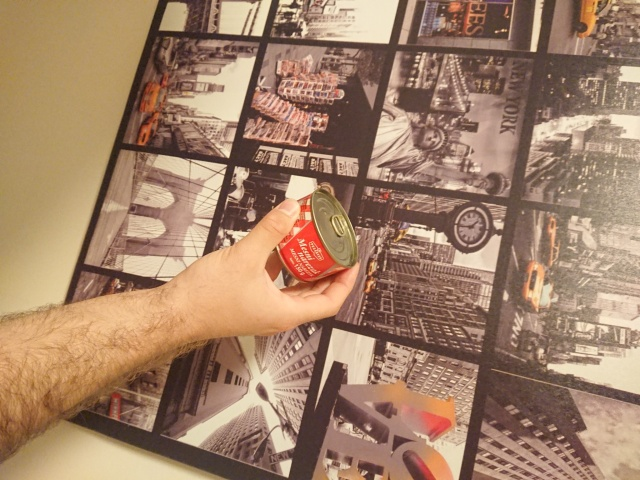Podravka Luncheon Meat 150g: (270, 186, 360, 285)
